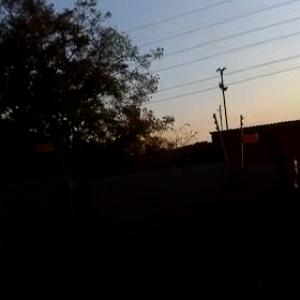follow: (261, 150, 300, 299)
